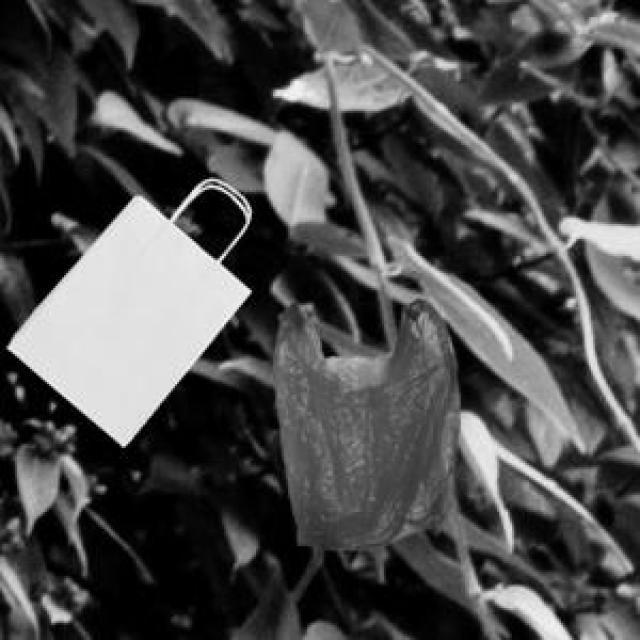paper: (4, 179, 248, 442)
